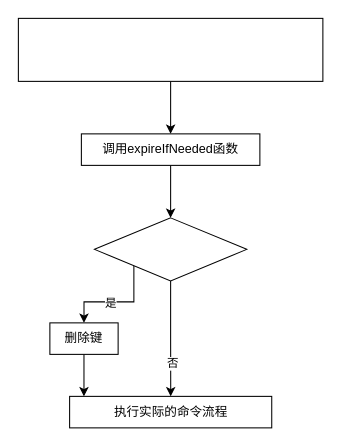
Image size: 341x446. Some labels were removed from this diagram. Here are the shapes that lost their labels. From the top down, the centre of each, then its label:
At point (170, 49): "所有读写数据库的命令 SET、LRANGE、SADD、HGET、KEYS等".
At point (170, 249): "输入健已经过期？".
